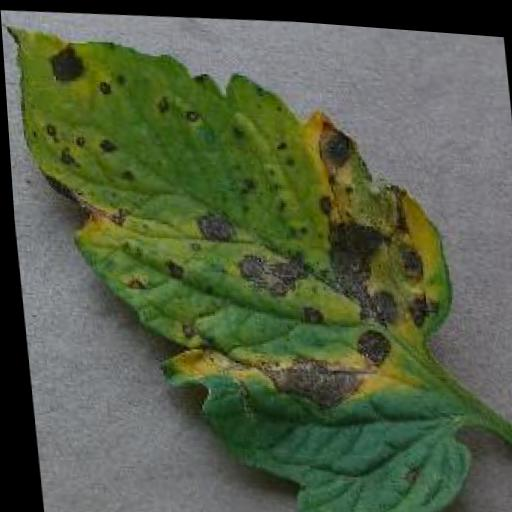Early Blight: (7, 7, 470, 512)
